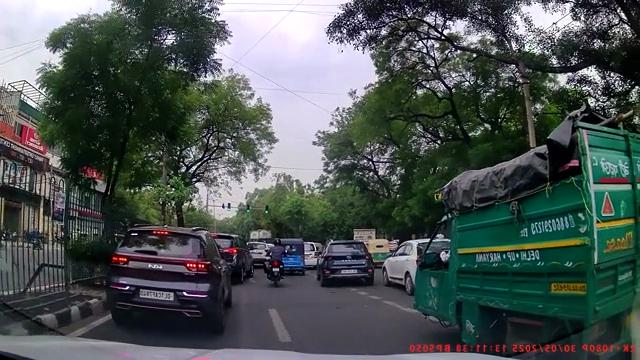motorcycle_with_helmet: (263, 237, 287, 287)
